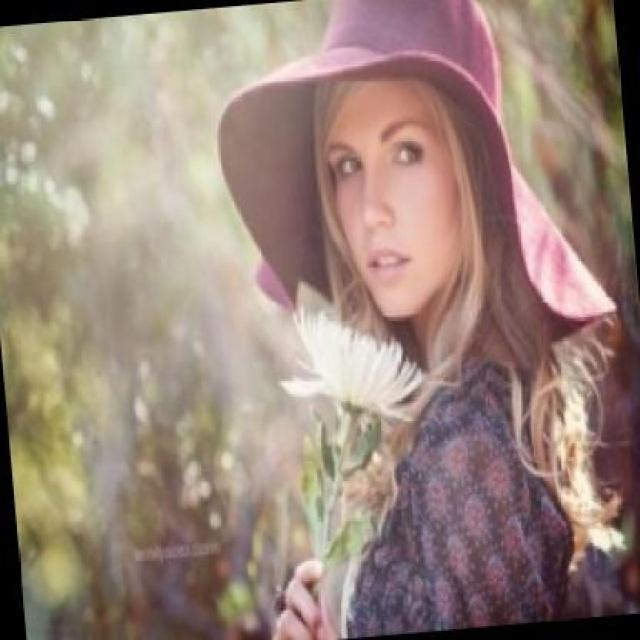hat: (213, 0, 618, 319)
